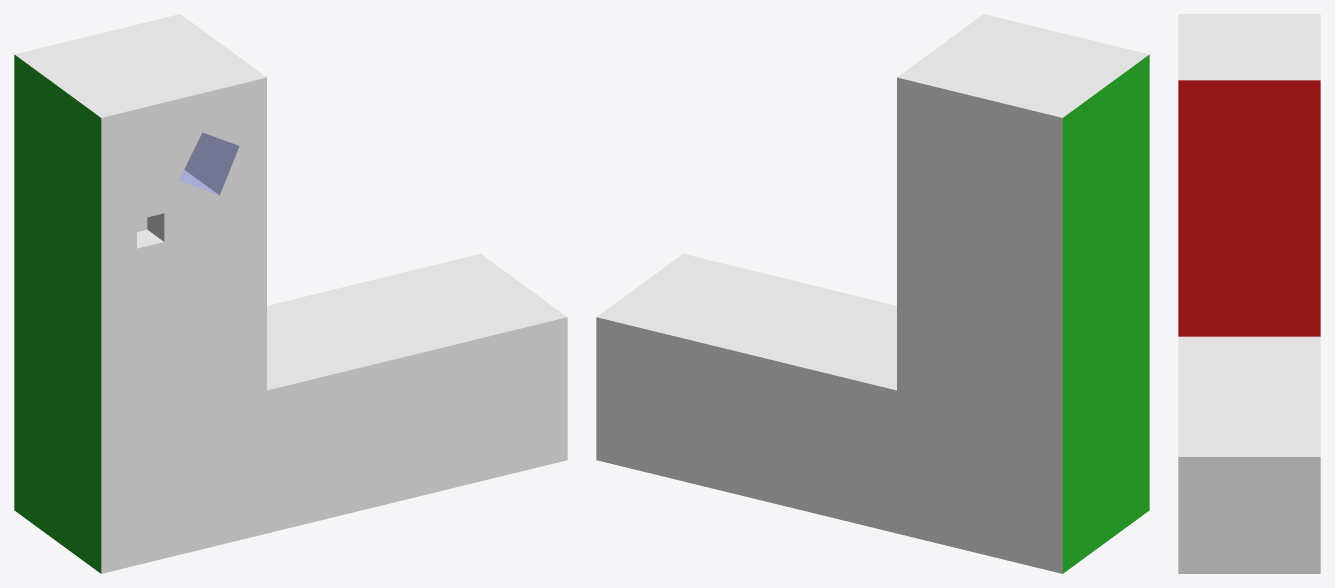
Rendered from Cornell_Box.dae.
3 views of the same model, side by side, from view 1: azimuth 30°, elevation 25°; view 2: azimuth 150°, elevation 25°; view 3: azimuth 270°, elevation 25° (orthographic). The views are drawn at different scales.
Parts seen in each view (by area): view 1: Cube; view 2: Cube; view 3: Cube.
Boxes of the visible parts, bbox=[...] form: Cube: bbox=[14, 14, 567, 573]; Cube: bbox=[596, 14, 1149, 573]; Cube: bbox=[1178, 14, 1320, 573].
Bounding box in the file's own units: 5.8 × 1.87 × 5.42.
